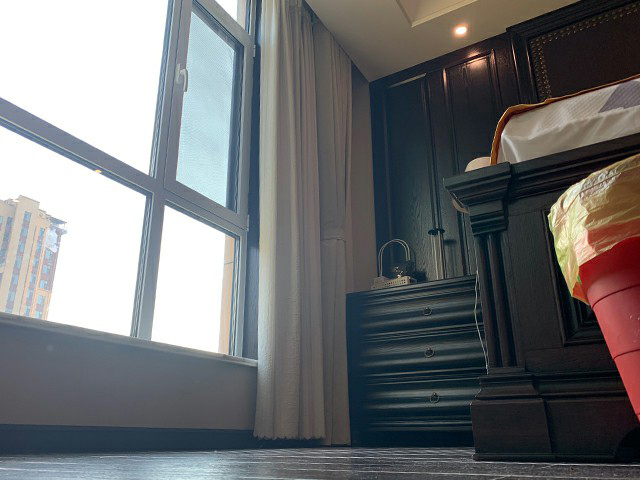cabinet: (343, 272, 486, 444)
curtain: (254, 1, 353, 449)
stool: (441, 131, 640, 466)
trashcan: (548, 153, 640, 422)
